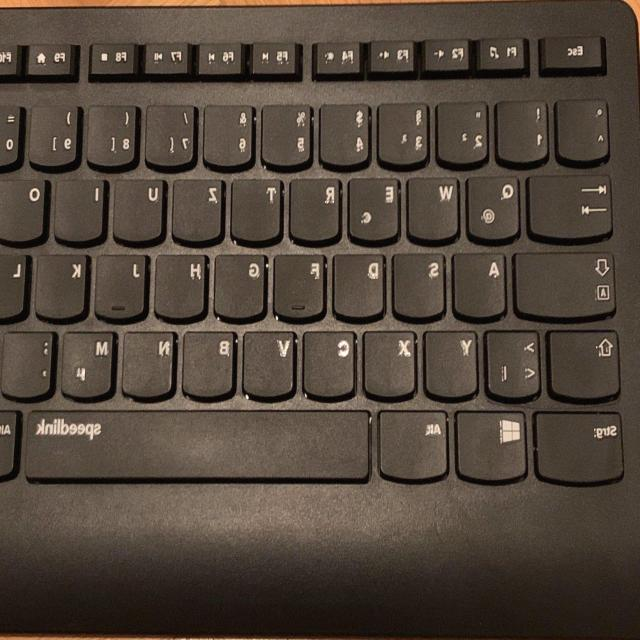0: (0, 99, 24, 167)
1: (497, 97, 551, 163)
2: (436, 98, 492, 165)
3: (378, 99, 433, 166)
4: (319, 101, 373, 167)
5: (262, 101, 316, 167)
6: (204, 101, 258, 167)
7: (145, 100, 199, 168)
8: (87, 101, 141, 168)
9: (29, 100, 83, 167)
a: (453, 249, 509, 319)
alt-left: (378, 407, 452, 481)
altgr-right: (0, 408, 20, 476)
b: (183, 327, 239, 398)
c: (304, 326, 360, 397)
caret: (557, 96, 613, 162)
comma: (3, 327, 57, 399)
d: (334, 250, 390, 319)
e: (349, 174, 403, 242)
f: (274, 250, 330, 320)
g: (215, 249, 270, 319)
h: (155, 250, 211, 319)
i: (55, 174, 109, 242)
j: (96, 249, 150, 321)
k: (36, 250, 92, 320)
keyboard: (2, 7, 640, 517)
l: (1, 248, 29, 318)
less: (486, 327, 545, 400)
m: (62, 327, 118, 398)
n: (123, 327, 179, 397)
o: (2, 171, 50, 243)
q: (466, 172, 524, 242)
r: (289, 174, 344, 242)
s: (394, 249, 450, 319)
shift-left: (548, 326, 624, 398)
shift-lock: (515, 247, 621, 318)
space: (26, 406, 376, 481)
strg-left: (535, 408, 628, 484)
t: (231, 174, 285, 242)
tab: (528, 170, 617, 240)
u: (114, 174, 168, 242)
v: (243, 326, 299, 397)
w: (408, 173, 463, 241)
x: (364, 327, 420, 398)
y: (425, 326, 481, 398)
z: (173, 175, 227, 243)
